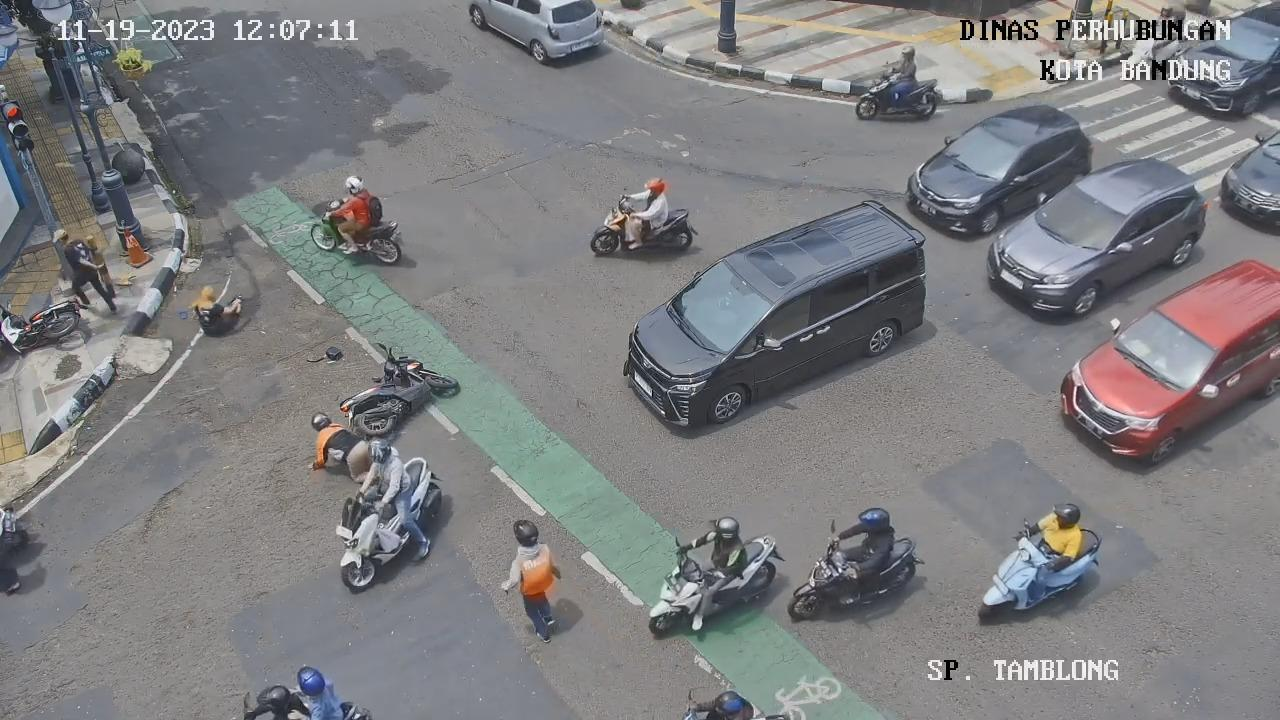accident: (299, 410, 388, 489), (186, 282, 259, 347)
